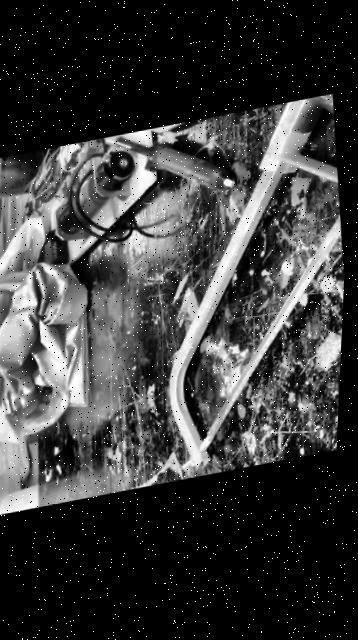pot: (0, 148, 54, 205)
